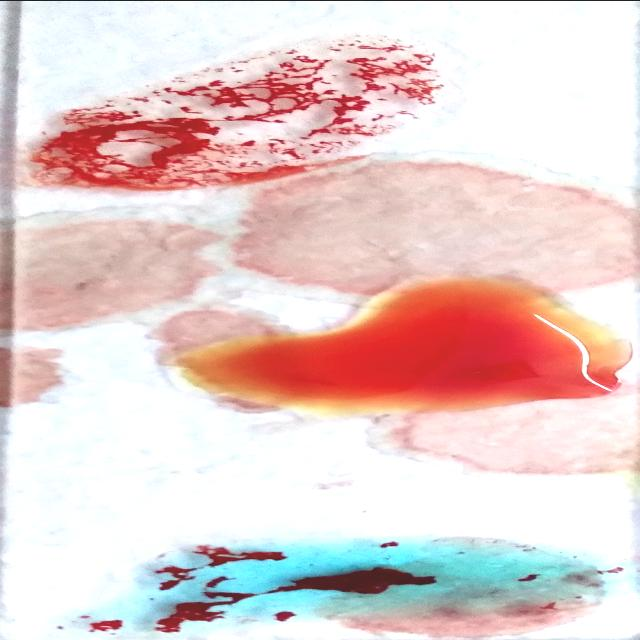A: (115, 538, 624, 626)
D: (51, 45, 437, 176)
